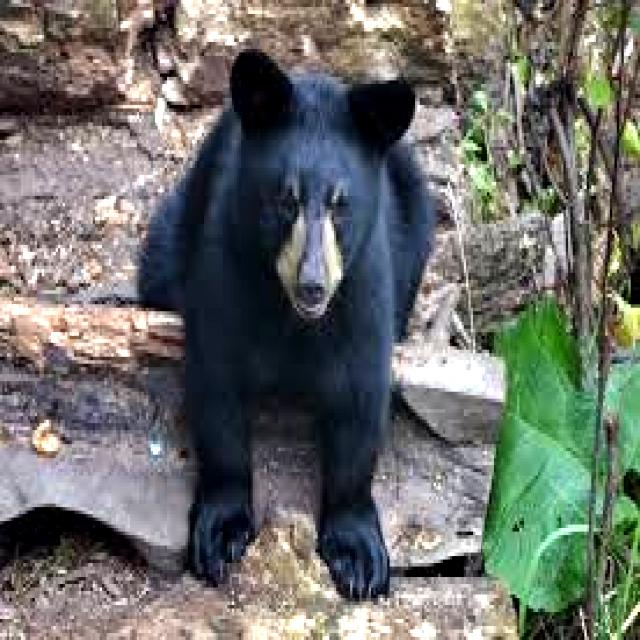bear: (159, 41, 426, 415)
